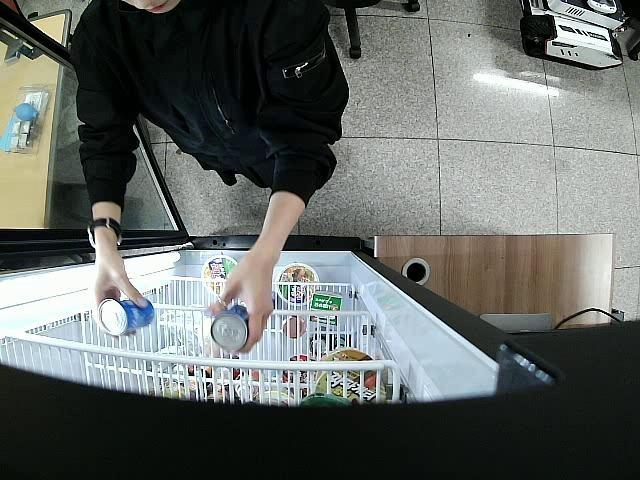15_letsbe: (97, 298, 155, 335), (211, 305, 252, 352)
